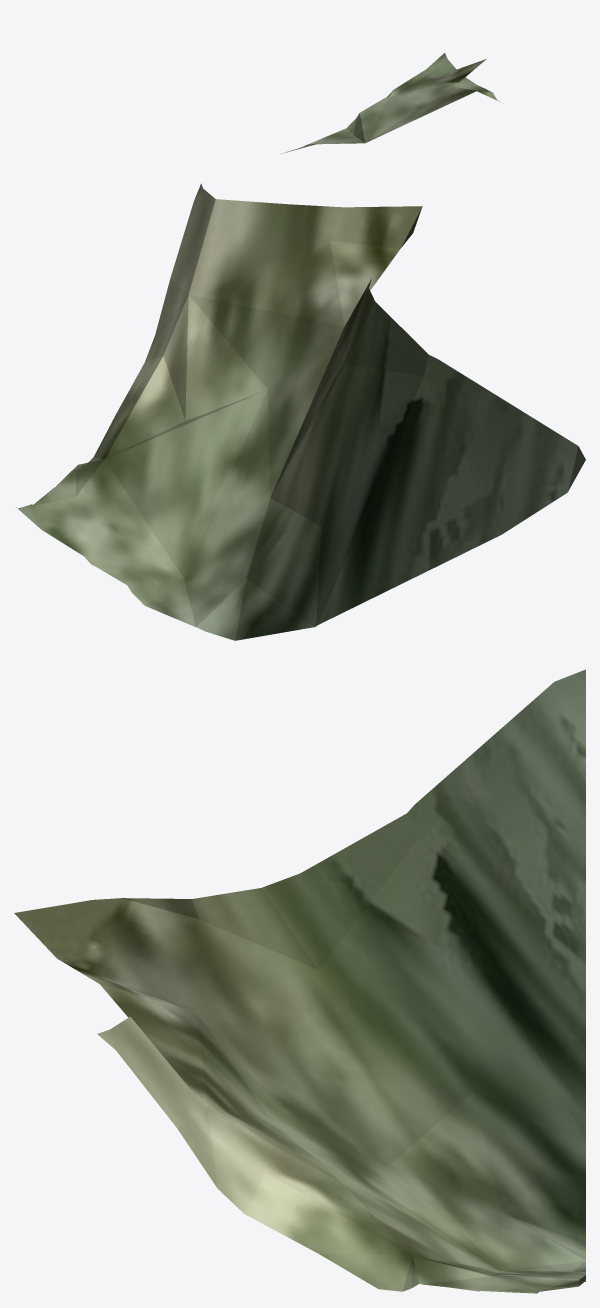
The picture shows the model from 3 angles, top to bottom: view 1: azimuth 30°, elevation 25°; view 2: azimuth 150°, elevation 25°; view 3: azimuth 270°, elevation 25°; orthographic projection. The views are drawn at different scales.
Bounding box in the file's own units: 1.68 × 0.748 × 1.11.
1 material, 1 textured.
